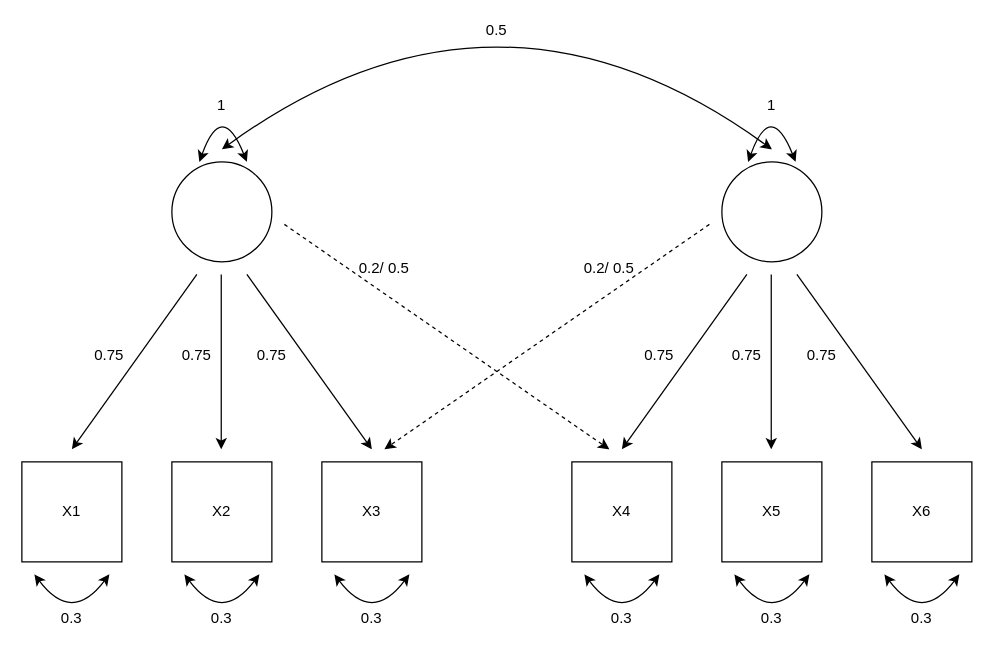
Some shapes in this 994 by 648 pixel diagram are drawn without their labels. The box of each missing label's shape, as (x1, y1, x2, y2) in pixels:
F1: (171, 161, 272, 262)
F2: (721, 161, 822, 262)
